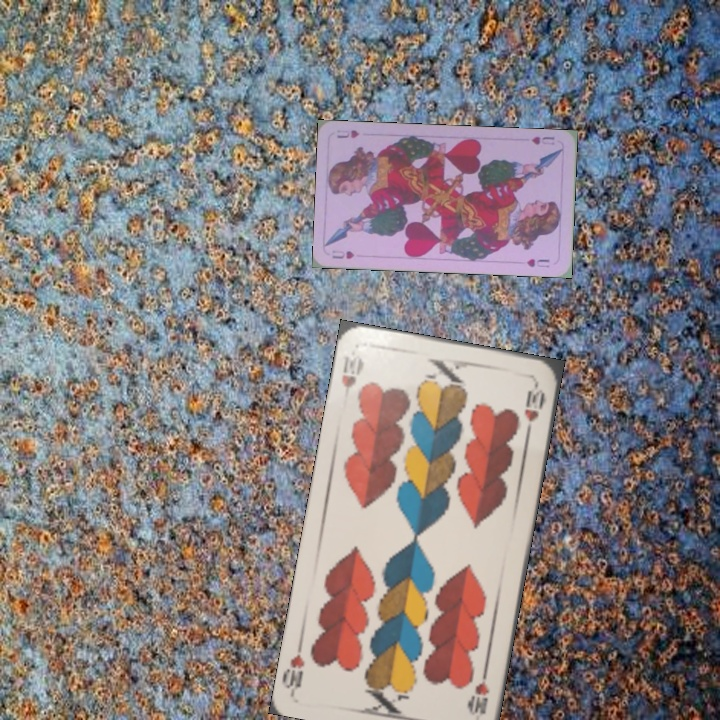H10: (337, 351, 367, 401), (465, 666, 492, 718)
HU: (527, 132, 557, 147), (328, 246, 357, 261)
